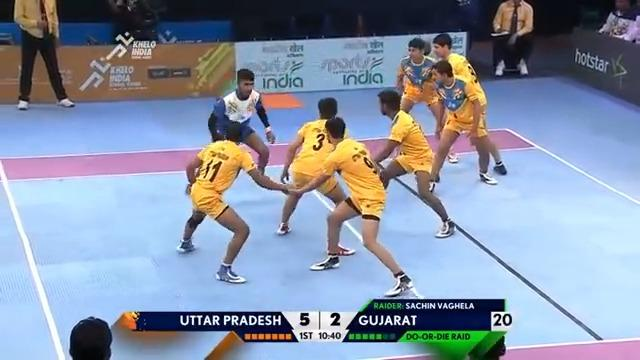Player: (287, 116, 422, 298), (175, 121, 299, 283), (369, 88, 455, 238), (277, 96, 356, 257), (427, 59, 501, 191), (395, 37, 459, 164), (12, 0, 75, 110)
Raider: (208, 67, 276, 177)
referee: (490, 0, 534, 77), (108, 0, 159, 43), (596, 0, 639, 41)
